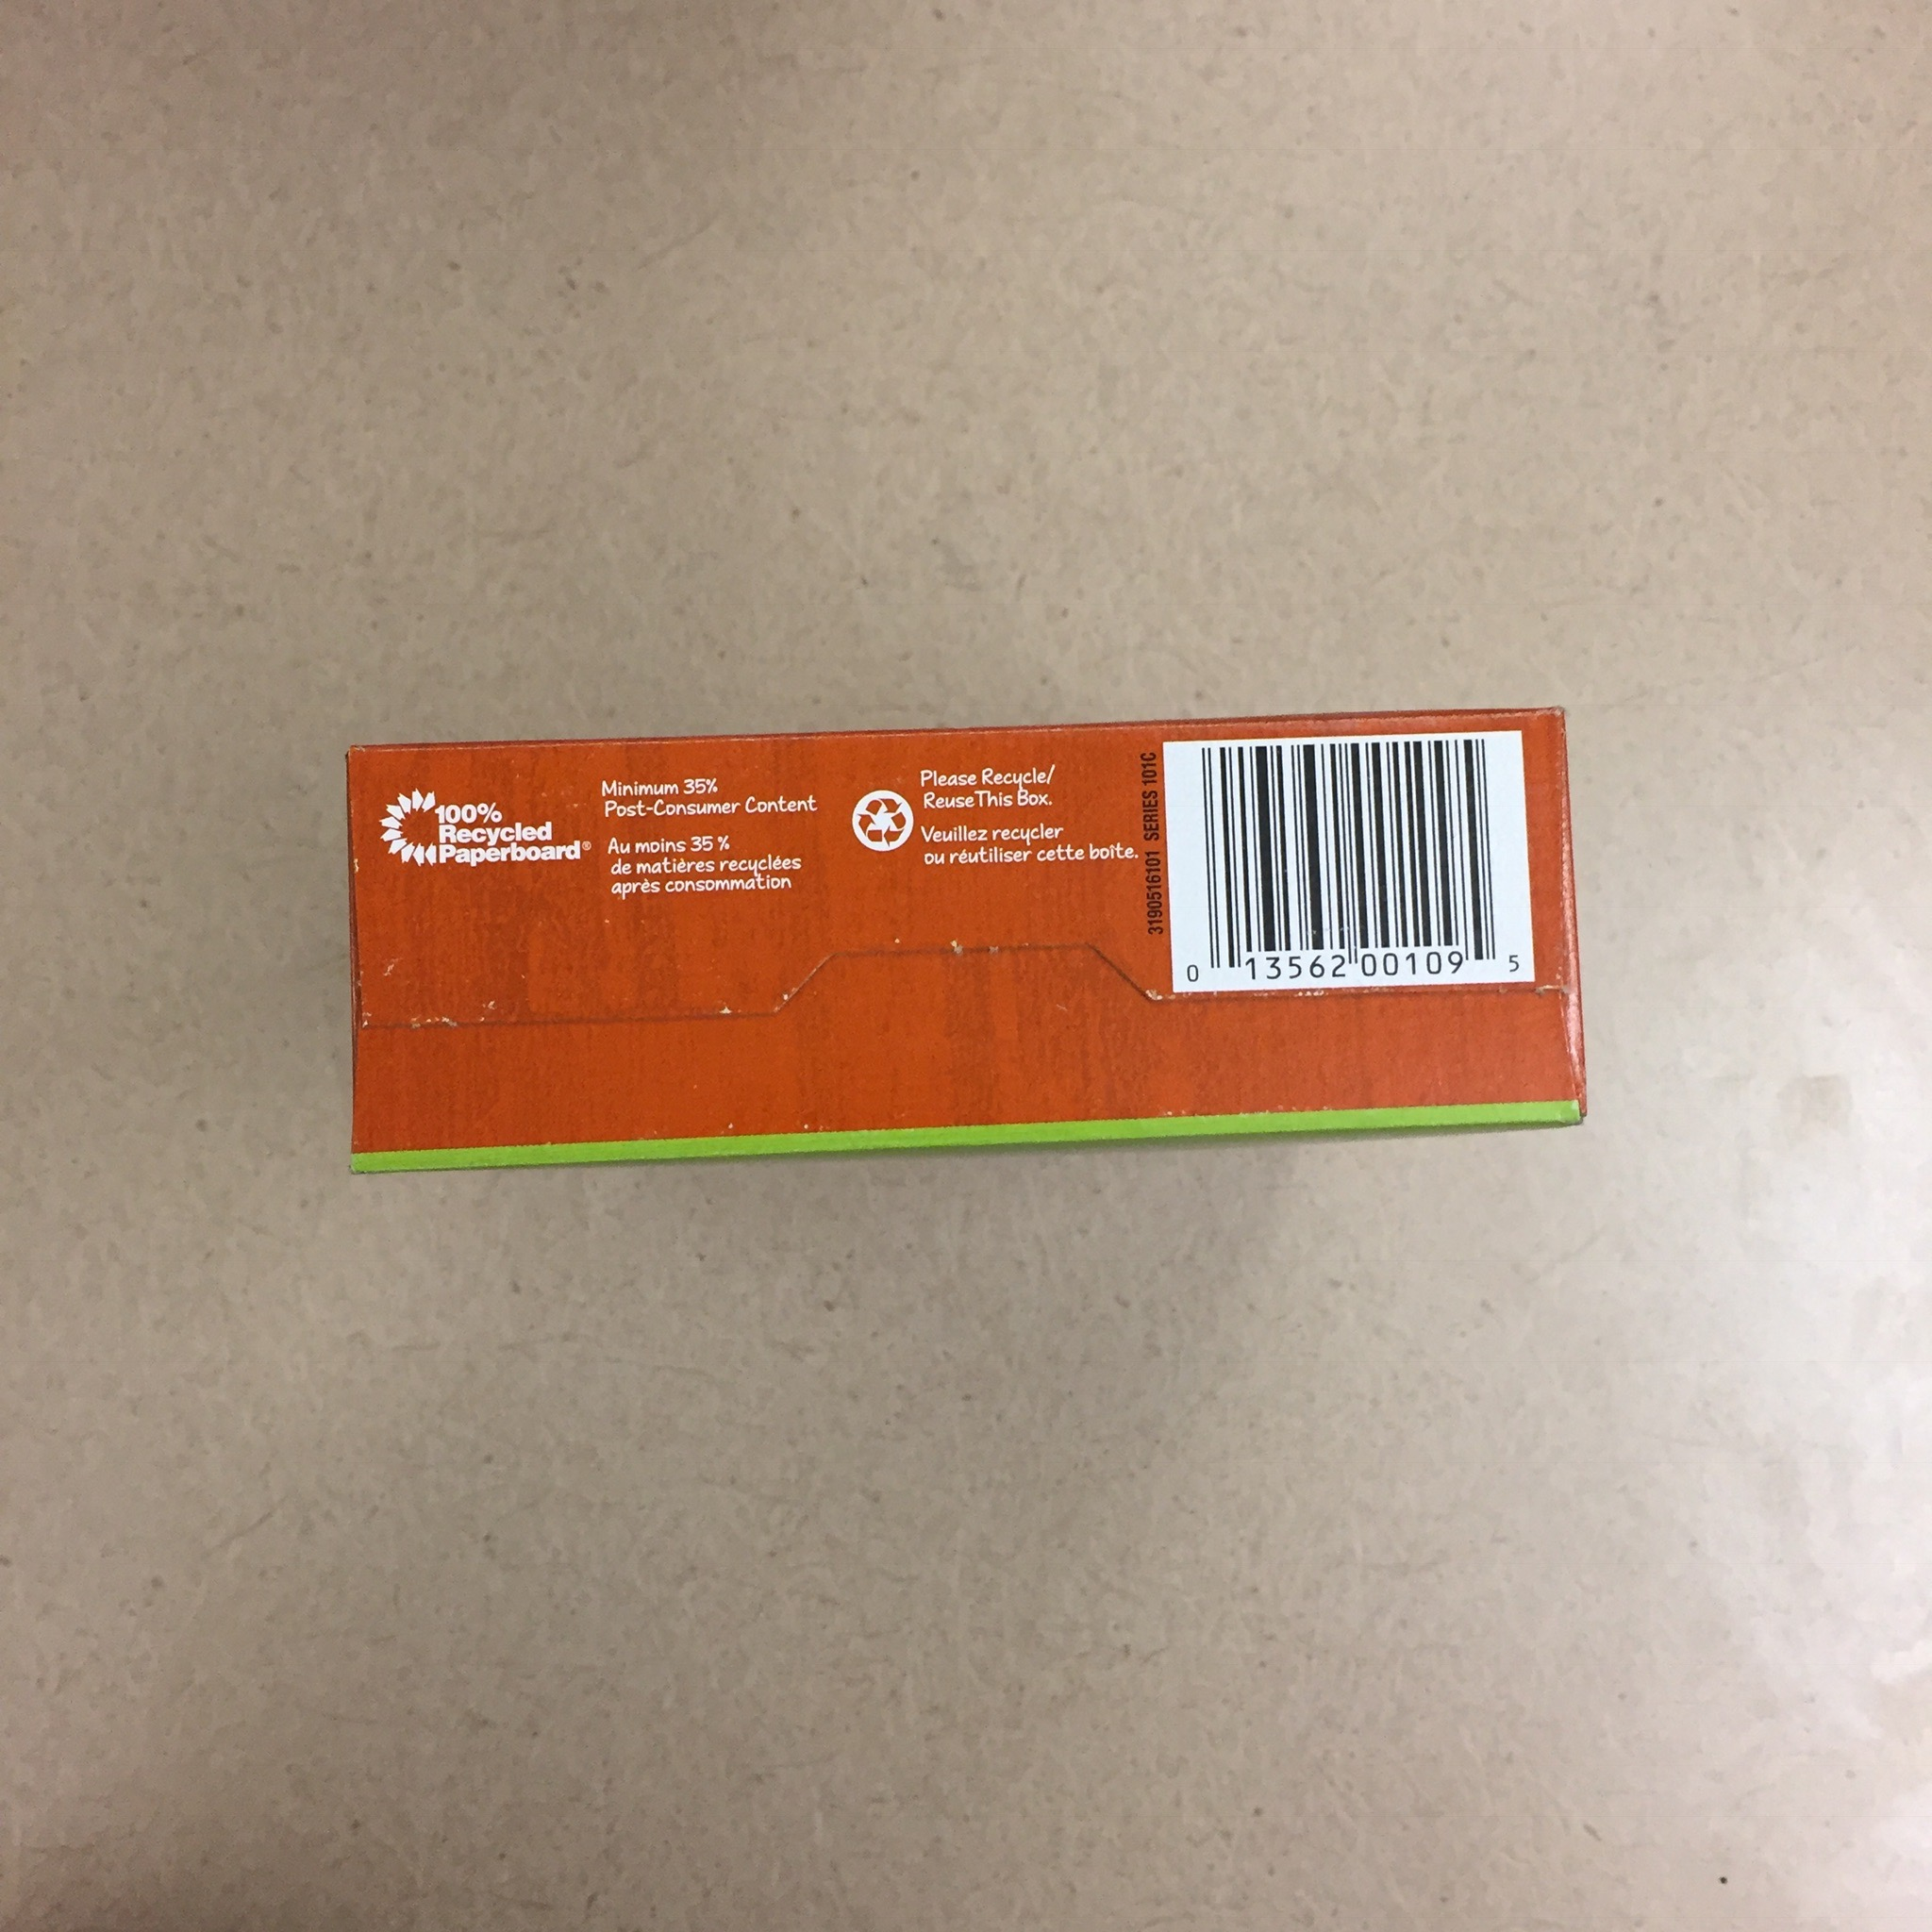annies_snickerdoodle_cinnamon_sugar: (340, 702, 1592, 1182)
